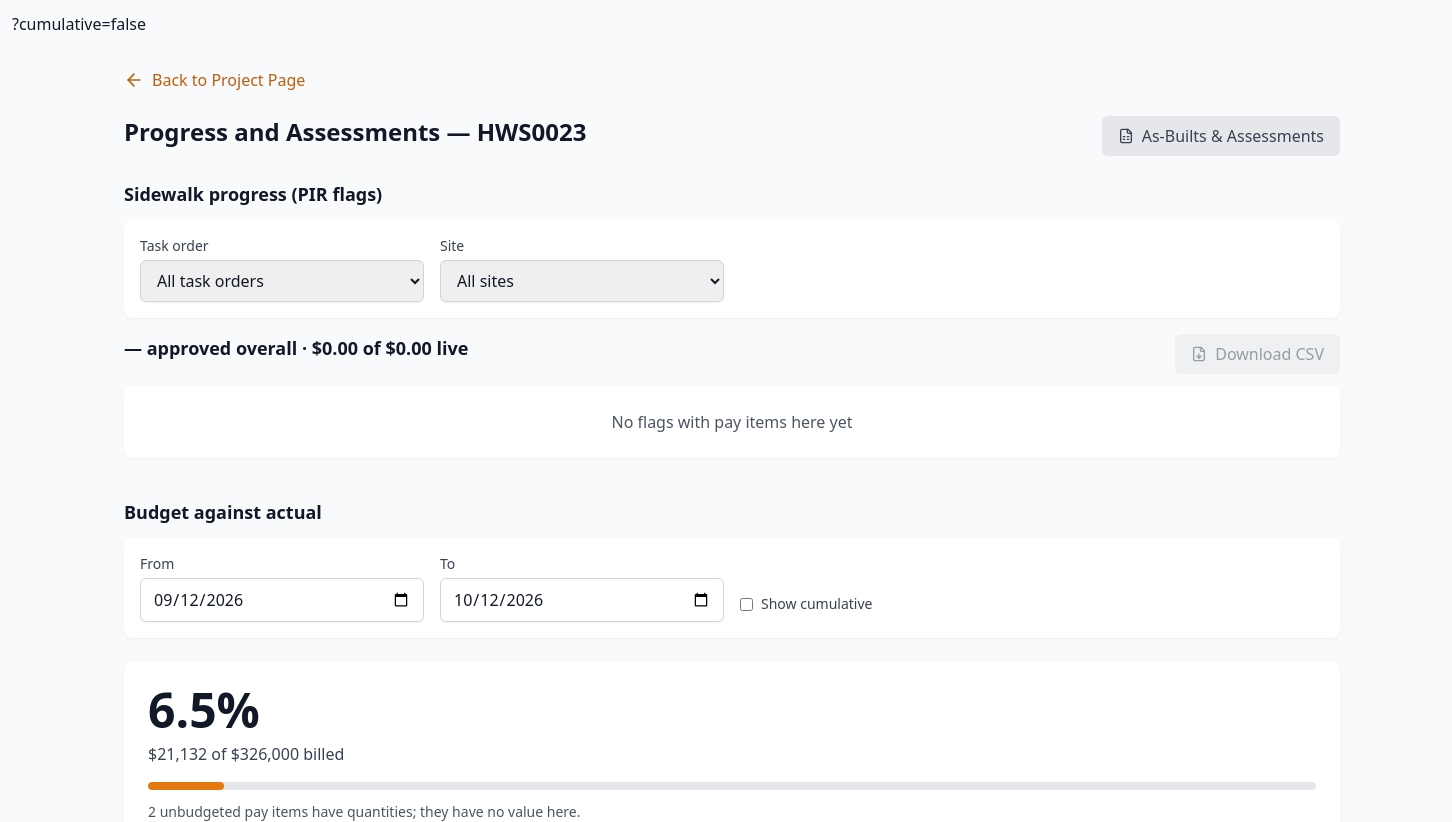
Test: ProgressPage — the date range › a picked date goes in the URL with the other bound, and the quantities are fetched again
Step 1. Type "2026-10-01" into the date field labelled "From" → (282, 600), box x1=140 y1=578 x2=424 y2=622
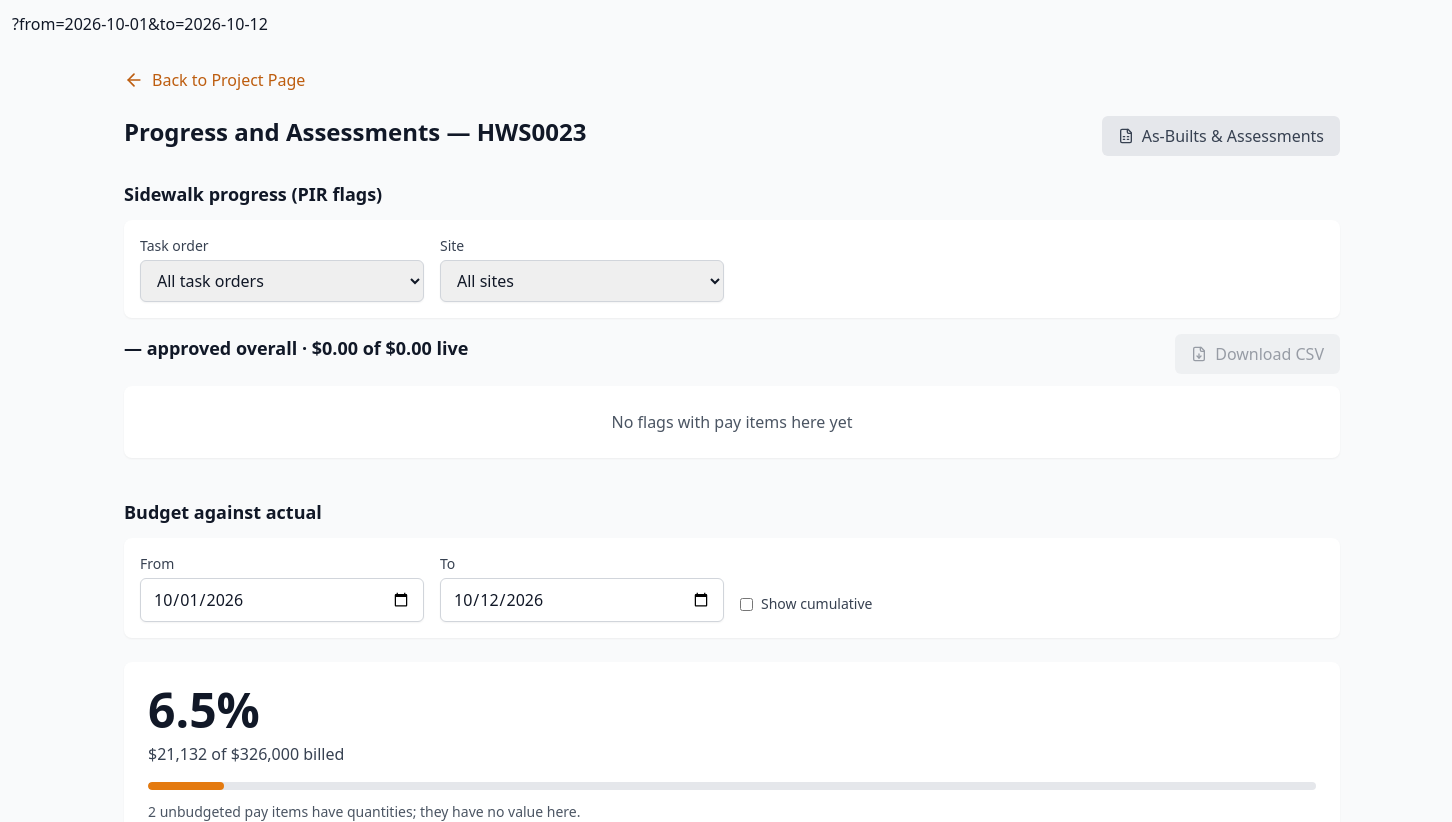
Check: the text with test id "progress-url" reads "?from=2026-10-01&to=2026-10-12", box x1=12 y1=13 x2=268 y2=35
Step 2. Type "2026-10-07" into the date field labelled "To" → (582, 600), box x1=440 y1=578 x2=724 y2=622
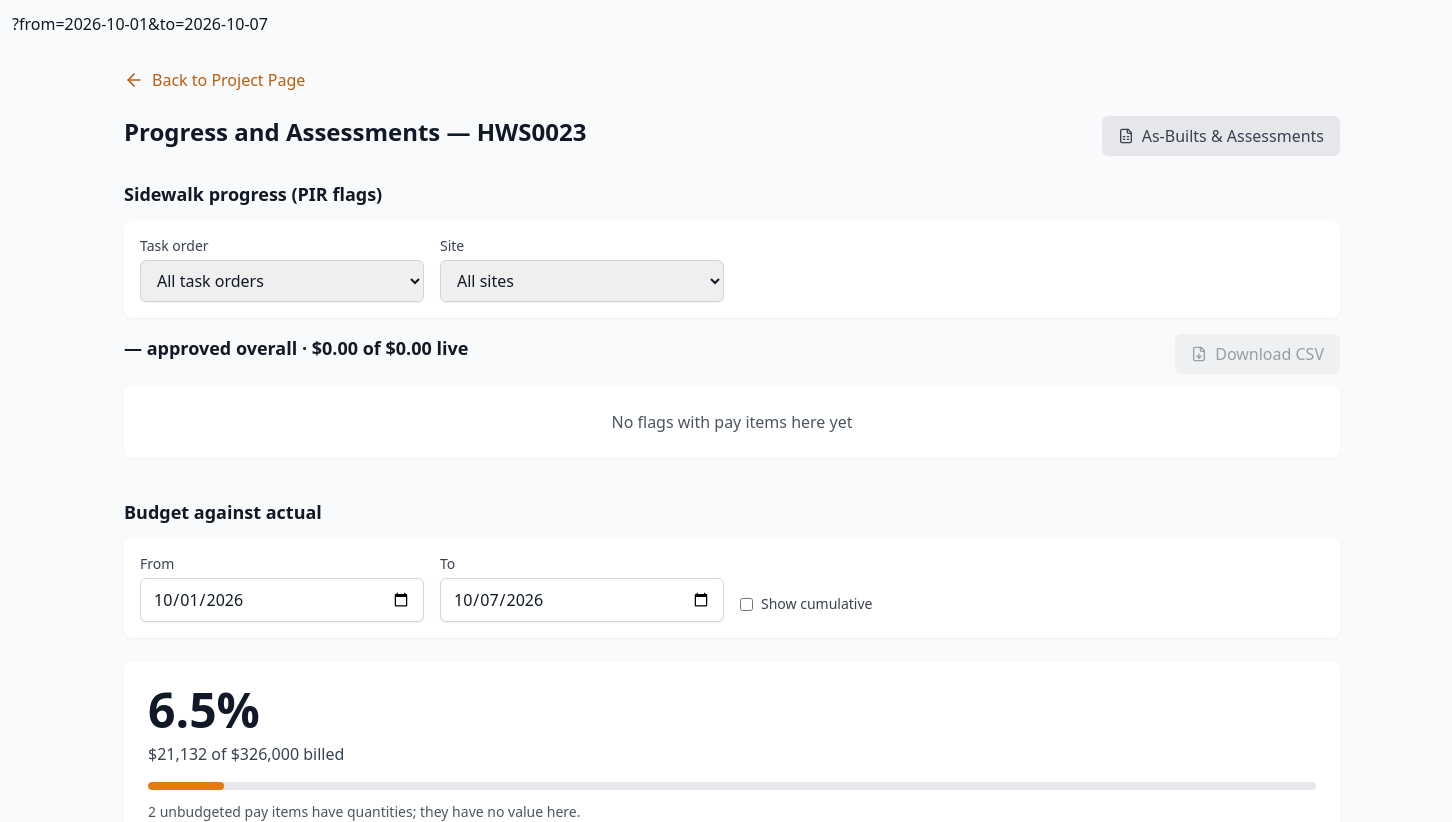
Check: the text with test id "progress-url" reads "?from=2026-10-01&to=2026-10-07", box x1=12 y1=13 x2=268 y2=35
